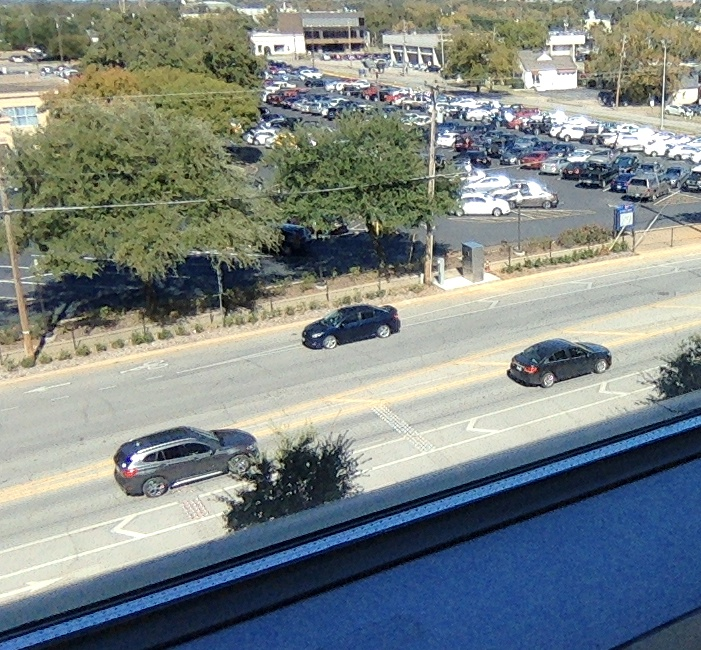car: (300, 300, 401, 350)
